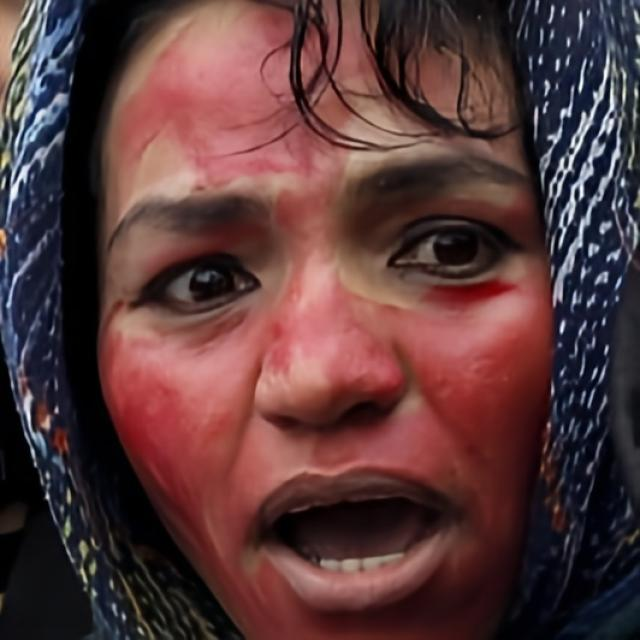Fear: (92, 0, 557, 640)
